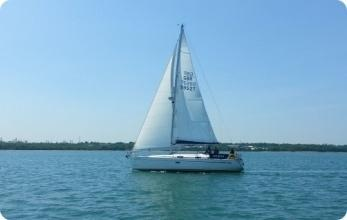fanchuan: (126, 24, 245, 174)
